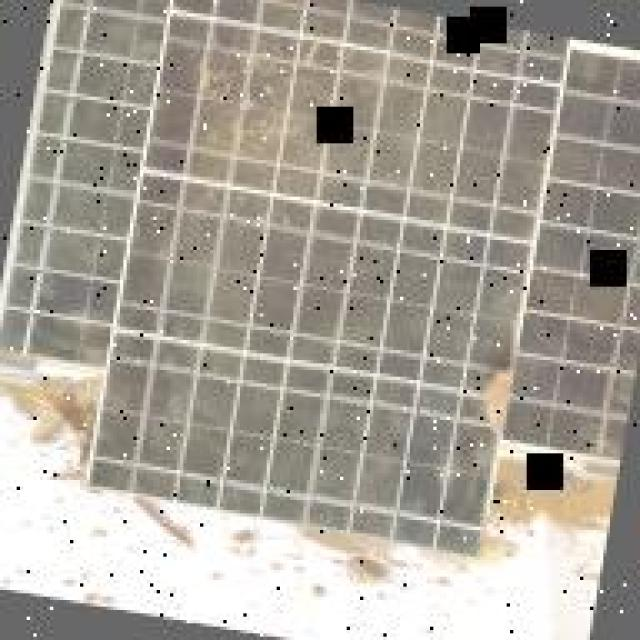dust-solar-panel: (15, 8, 640, 493)
